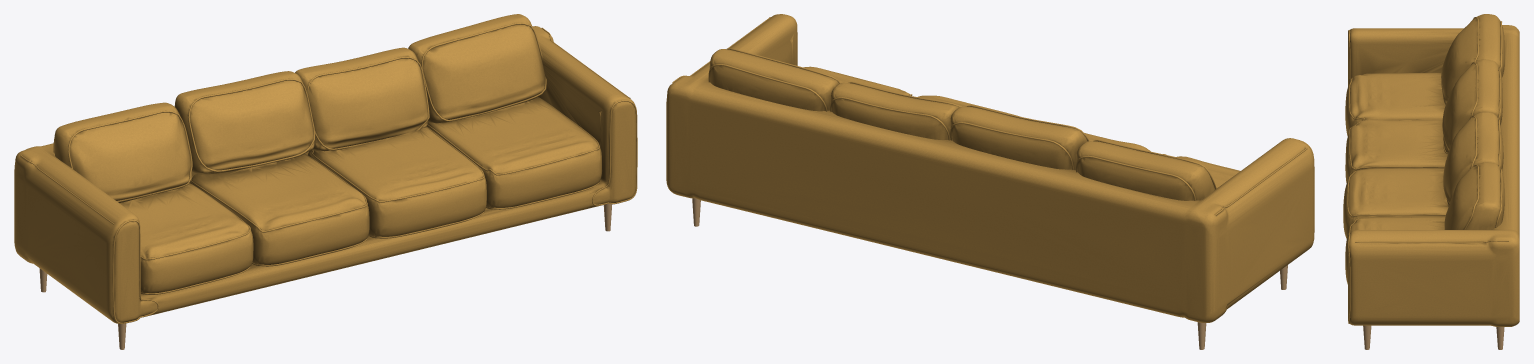
The model's file is pana-mostaza.gltf.
3 views of the same model, side by side, from view 1: azimuth 30°, elevation 25°; view 2: azimuth 150°, elevation 25°; view 3: azimuth 270°, elevation 25° (orthographic). The views are drawn at different scales.
Parts seen in each view (by area): view 1: tela_ar, madera_ar; view 2: tela_ar, madera_ar; view 3: tela_ar, madera_ar.
Boxes of the visible parts, x1,y1,x2,y2 form: tela_ar: [14, 14, 637, 323]; madera_ar: [39, 203, 612, 349]; tela_ar: [666, 14, 1314, 322]; madera_ar: [692, 198, 1287, 349]; tela_ar: [1343, 14, 1519, 326]; madera_ar: [1363, 325, 1504, 349].
Bounding box in the file's own units: 2.7 × 0.8297 × 0.9224.
Materials: 2 (2 with a texture image).
